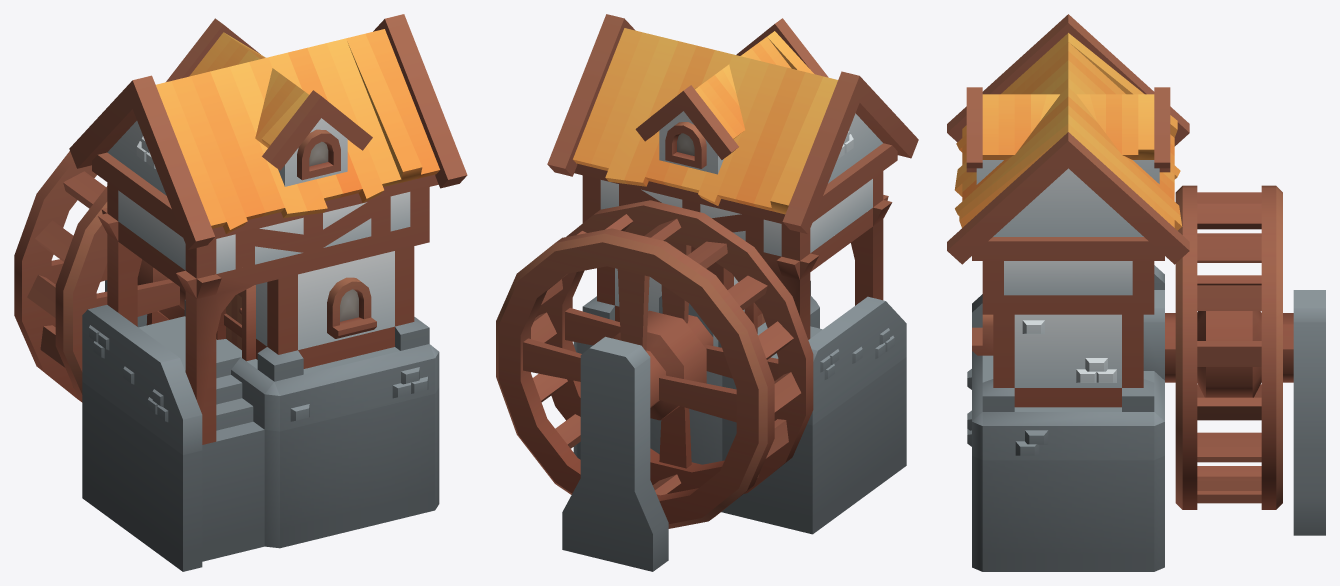
The model's file is building_watermill_yellow.gltf.
3 renders of one model, left to right at view 1: azimuth 30°, elevation 25°; view 2: azimuth 150°, elevation 25°; view 3: azimuth 270°, elevation 25°, orthographic. The views are drawn at different scales.
Parts seen in each view (by area): view 1: building_watermill_yellow, building_watermill_wheel_yellow; view 2: building_watermill_yellow, building_watermill_wheel_yellow; view 3: building_watermill_yellow, building_watermill_wheel_yellow.
Boxes of the visible parts, x1,y1,x2,y2 form: building_watermill_yellow: [69, 14, 467, 571]; building_watermill_wheel_yellow: [14, 151, 185, 402]; building_watermill_yellow: [547, 14, 918, 571]; building_watermill_wheel_yellow: [496, 200, 813, 528]; building_watermill_yellow: [947, 14, 1325, 571]; building_watermill_wheel_yellow: [1165, 185, 1293, 509].
Size of the model in its own units: 1.05 by 1.57 by 1.24.
1 material, 1 textured.
